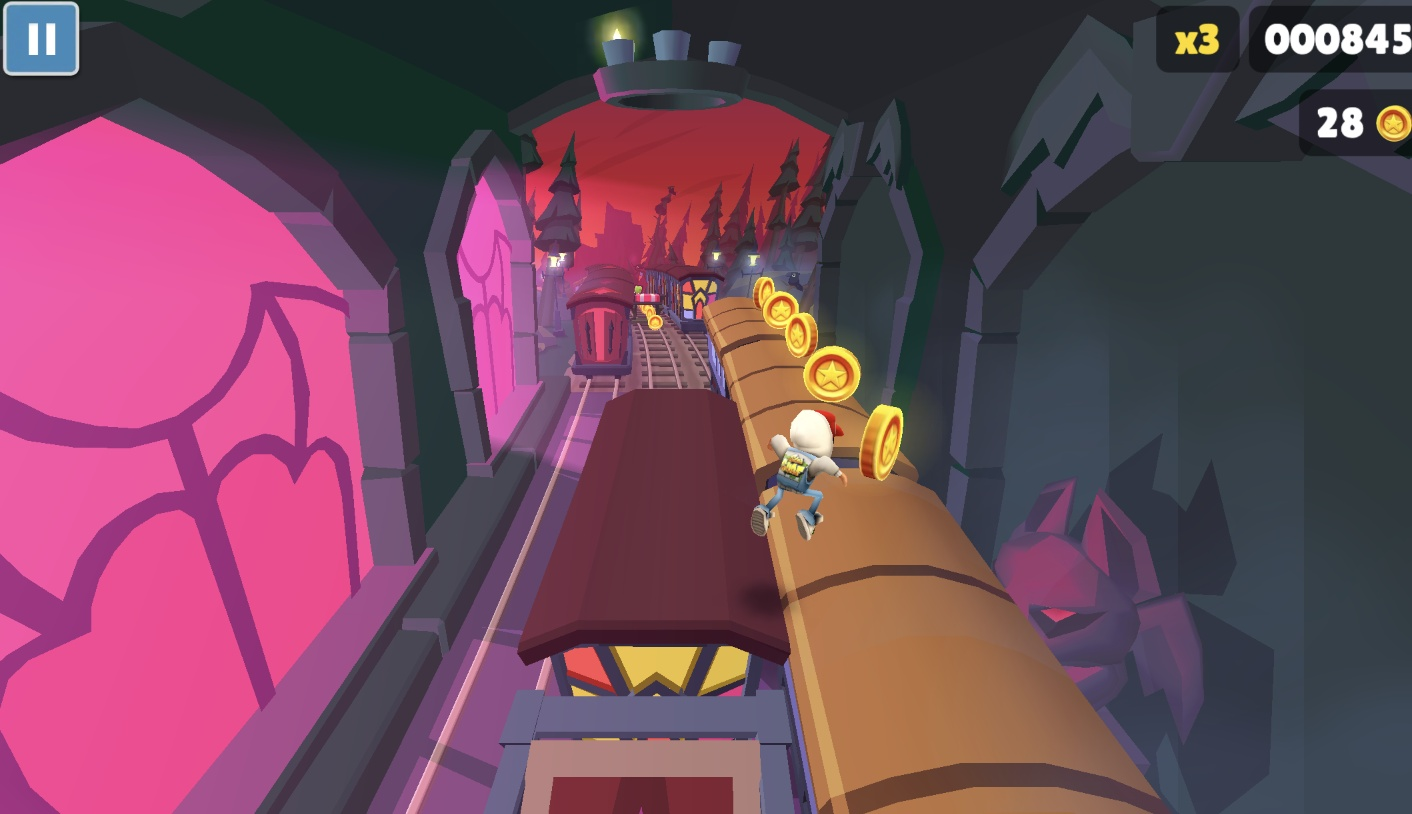ground_barrier: (632, 292, 664, 323)
train: (702, 297, 1186, 814), (486, 387, 810, 814), (563, 265, 635, 378), (638, 264, 724, 335)
